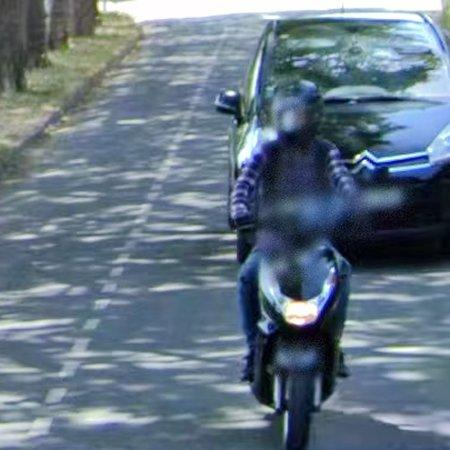motorcycles: (228, 199, 353, 447)
